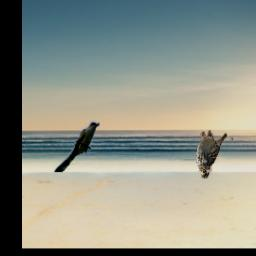Cuckoo: (54, 120, 100, 172)
Sparrow: (195, 129, 228, 179)
